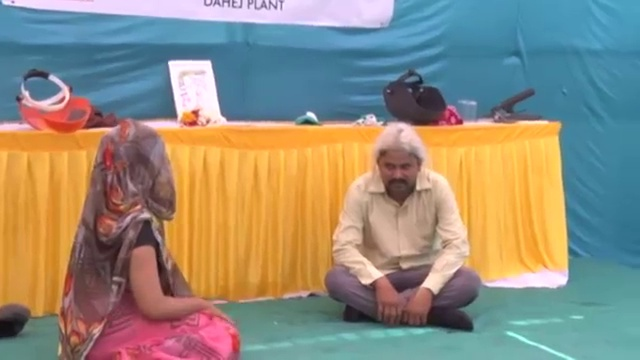helmet_off: (90, 123, 175, 219), (374, 124, 424, 198)
person: (54, 119, 241, 360), (323, 120, 485, 332)
